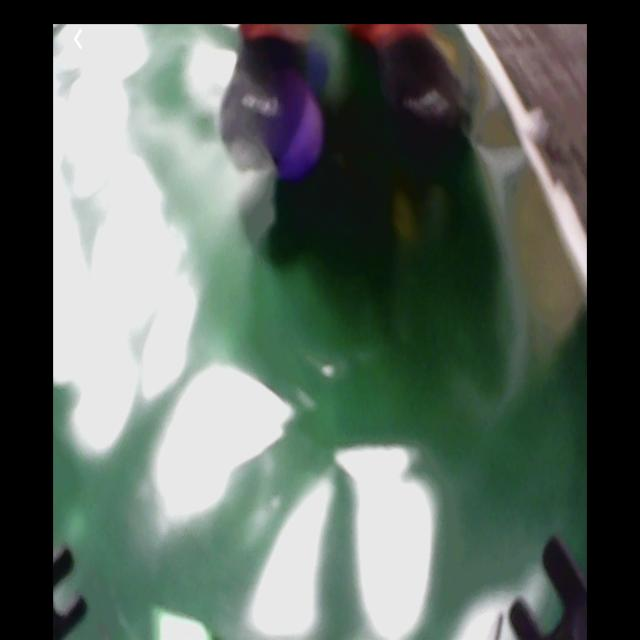ball: (274, 91, 325, 176)
